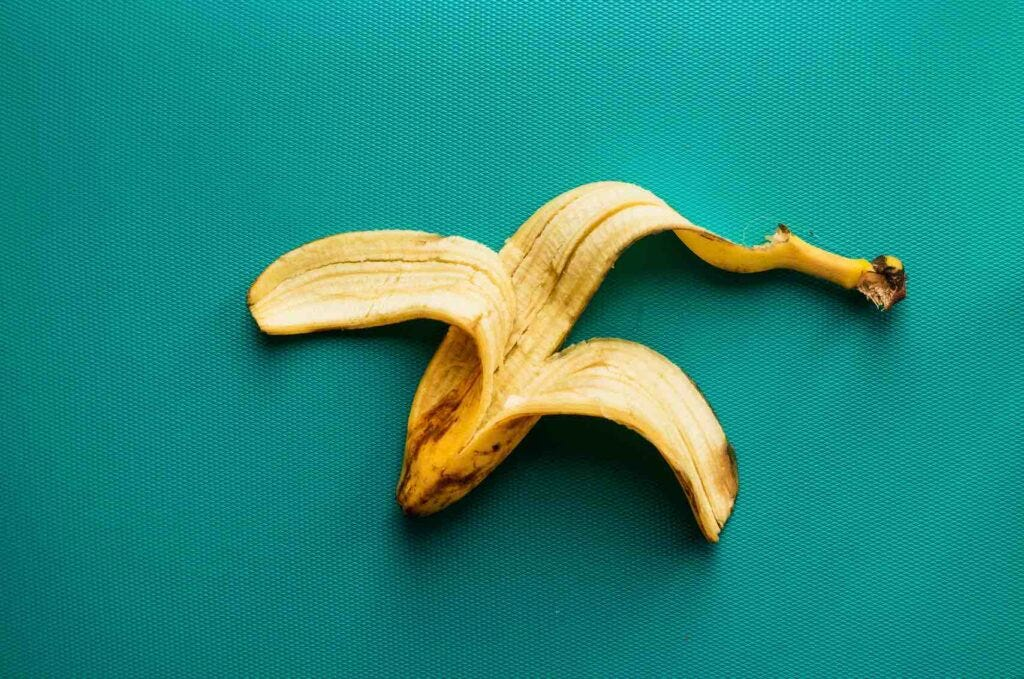peeled banana: (236, 135, 949, 591)
